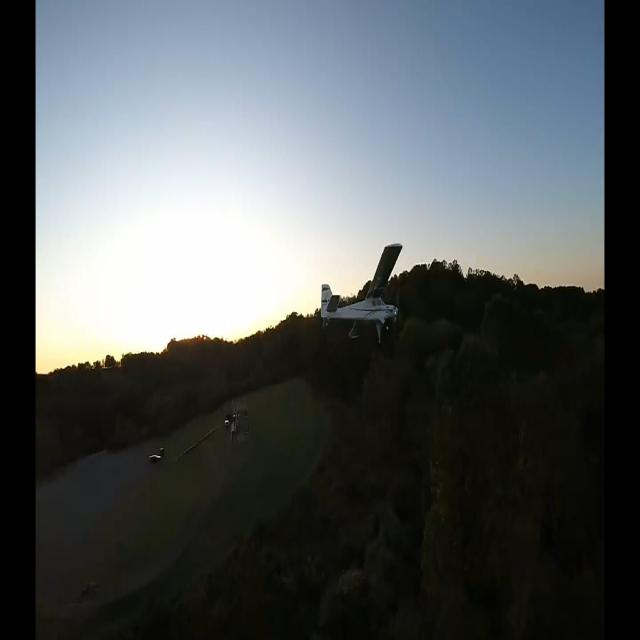iha: (352, 274, 372, 318)
